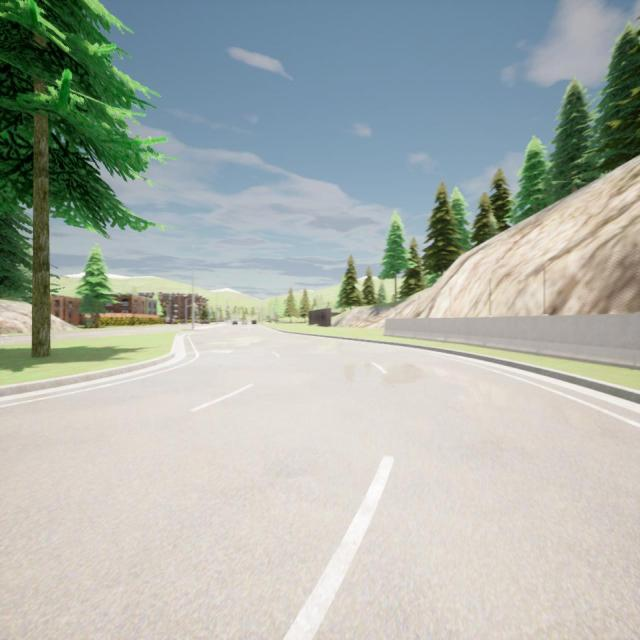Vehicle: (232, 319, 238, 325), (252, 318, 256, 324)
